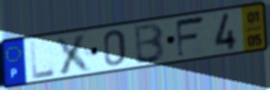0: (101, 28, 128, 69)
4: (213, 11, 240, 52)
B: (134, 21, 167, 66)
F: (174, 14, 208, 61)
L: (29, 39, 58, 81)
X: (54, 32, 95, 77)
